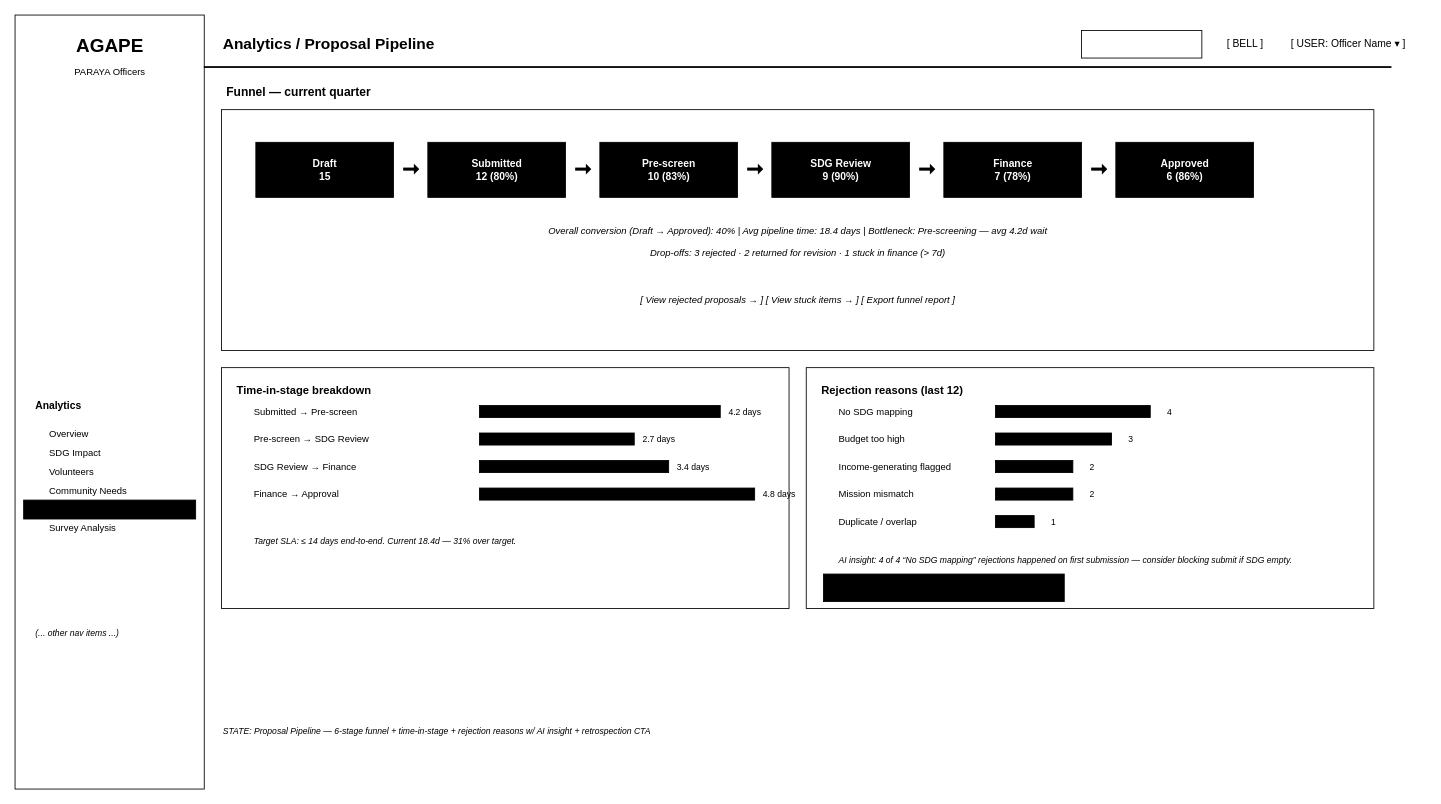
Image size: 1441x804. Some labels were removed from this diagram. The box of each missing label's shape, as (x1, y1, x2, y2) in pixels:
[ Generate retrospection report ]: (823, 573, 1064, 602)
[ ⚙ Filters (0) ]: (1081, 30, 1202, 58)
[x] Proposal Pipeline: (23, 499, 196, 519)
